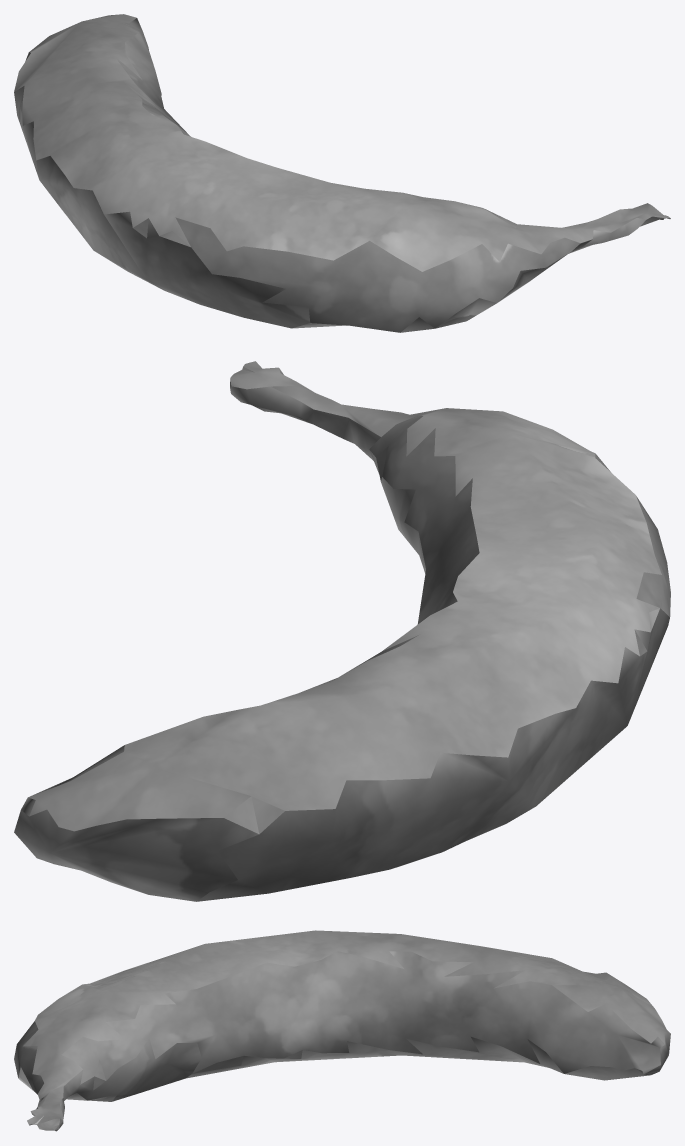
Rendered from SM_Banana_01c.fbx.
3 views of the same model, one above another, from view 1: azimuth 30°, elevation 25°; view 2: azimuth 150°, elevation 25°; view 3: azimuth 270°, elevation 25° (orthographic). The views are drawn at different scales.
Visible parts, largest first — view 1: SM_Banana_01c_LOD0; view 2: SM_Banana_01c_LOD0; view 3: SM_Banana_01c_LOD0.
Part boxes in pixels (x1=…): SM_Banana_01c_LOD0: x1=14, y1=14, x2=670, y2=332; SM_Banana_01c_LOD0: x1=14, y1=361, x2=670, y2=901; SM_Banana_01c_LOD0: x1=14, y1=930, x2=670, y2=1131.
Bounding box in the file's own units: 11.71 × 17.77 × 3.31.
